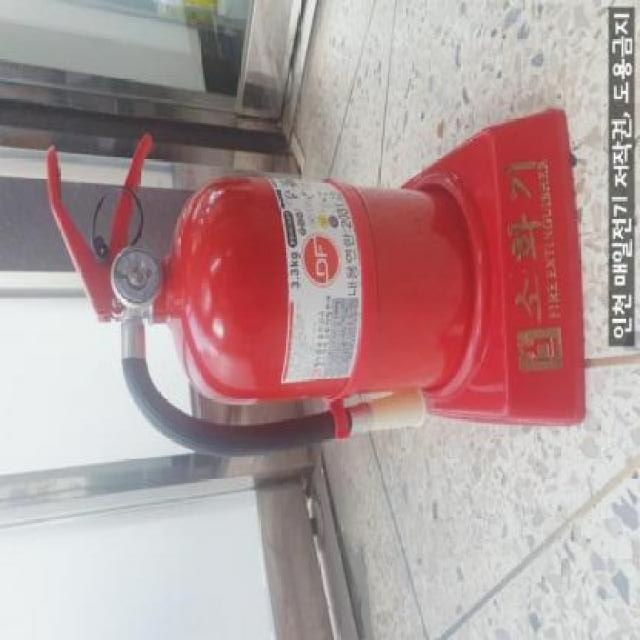fire extinguisher: (45, 132, 473, 459)
